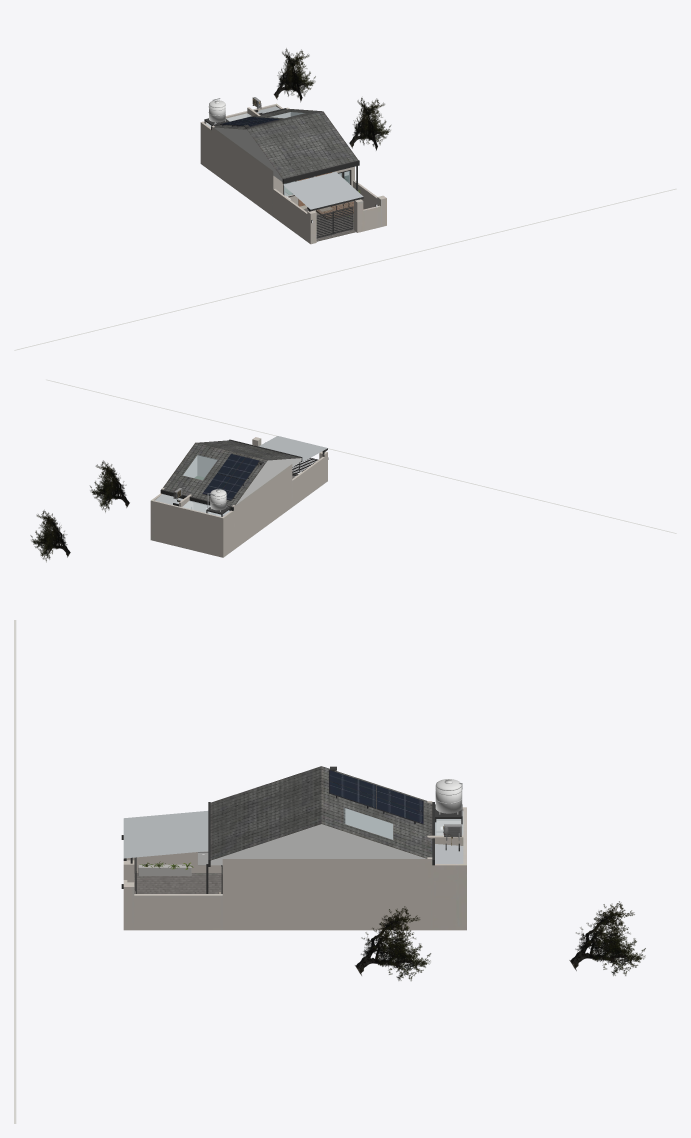
3 renders of one model, top to bottom at view 1: azimuth 30°, elevation 25°; view 2: azimuth 150°, elevation 25°; view 3: azimuth 270°, elevation 25°, orthographic. The views are drawn at different scales.
Visible parts, largest first — view 1: STATIC_main_tabrak, TREE_D_island_tree_01.001, TREE_D_island_tree_01, STATIC_ground_lewat; view 2: STATIC_main_tabrak, TREE_D_island_tree_01, TREE_D_island_tree_01.001, STATIC_ground_lewat; view 3: STATIC_main_tabrak, TREE_D_island_tree_01, TREE_D_island_tree_01.001, STATIC_ground_lewat.
Part boxes in pixels (left/top/right/bottom): STATIC_main_tabrak: left=200, top=97, right=386, bottom=244; TREE_D_island_tree_01.001: left=273, top=48, right=315, bottom=102; TREE_D_island_tree_01: left=349, top=97, right=390, bottom=150; STATIC_ground_lewat: left=14, top=188, right=676, bottom=350; STATIC_main_tabrak: left=150, top=436, right=328, bottom=557; TREE_D_island_tree_01: left=90, top=460, right=129, bottom=512; TREE_D_island_tree_01.001: left=30, top=510, right=70, bottom=561; STATIC_ground_lewat: left=46, top=379, right=676, bottom=533; STATIC_main_tabrak: left=121, top=766, right=466, bottom=930; TREE_D_island_tree_01: left=355, top=906, right=430, bottom=980; TREE_D_island_tree_01.001: left=569, top=901, right=645, bottom=975; STATIC_ground_lewat: left=14, top=620, right=16, bottom=1123.
Size of what is drawn, in the model's own units: 50 by 6.3 by 27.8.
66 materials, 14 textured.
